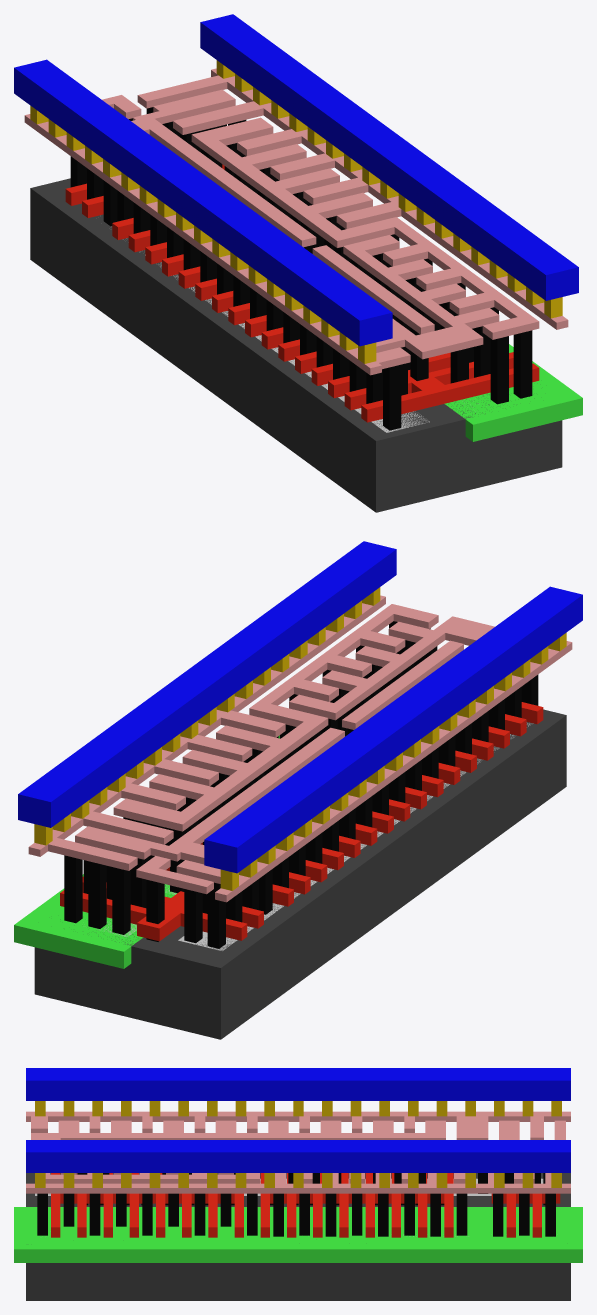
File: sky130_fd_sc_hd__lpflow_isobufsrc_8.obj
The picture shows the model from 3 angles, top to bottom: view 1: azimuth 30°, elevation 25°; view 2: azimuth 150°, elevation 25°; view 3: azimuth 270°, elevation 25°; orthographic projection. The views are drawn at different scales.
Visible parts, largest first — view 1: subs, metal1, li, licon, poly, mcon, nwell, diff; view 2: subs, metal1, li, licon, poly, mcon, nwell, diff; view 3: metal1, subs, nwell, li, licon, poly, mcon.
Boxes of the visible parts, box(x1,y1,x2,y2) form: subs: box(30, 178, 562, 512); metal1: box(14, 14, 578, 346); li: box(24, 68, 568, 375); licon: box(70, 107, 532, 430); poly: box(65, 164, 539, 422); mcon: box(30, 60, 562, 363); nwell: box(444, 344, 582, 441); diff: box(123, 238, 429, 432); subs: box(34, 709, 566, 1039); metal1: box(18, 541, 582, 873); li: box(28, 595, 572, 902); licon: box(64, 621, 538, 948); poly: box(60, 702, 543, 941); mcon: box(34, 587, 566, 890); nwell: box(14, 735, 279, 968); diff: box(178, 723, 533, 950); metal1: box(26, 1068, 570, 1172); subs: box(26, 1173, 570, 1300); nwell: box(14, 1207, 582, 1262); li: box(26, 1111, 570, 1193); licon: box(37, 1173, 555, 1236); poly: box(51, 1173, 560, 1237); mcon: box(35, 1101, 561, 1187).
Bounding box in the file's own units: 3.2 × 2.74 × 9.12.
